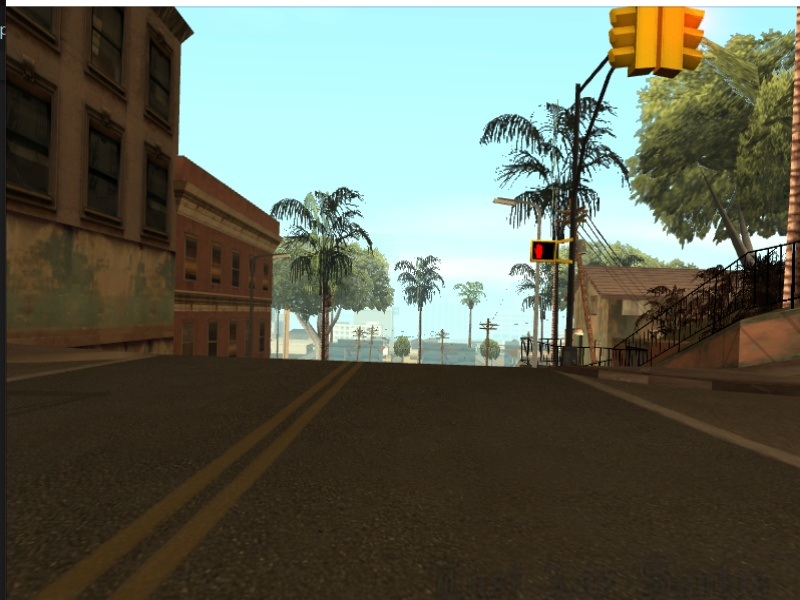pole: (564, 85, 588, 370)
